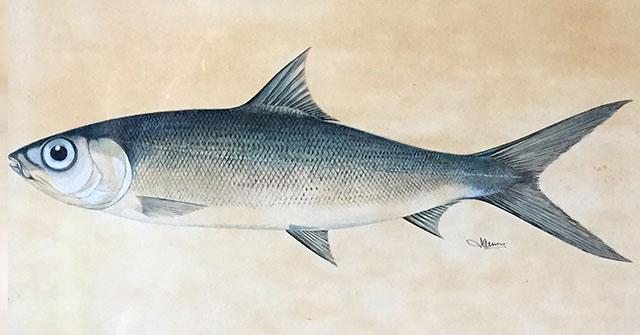Mulut: (0, 133, 48, 207)
Sirip Anal: (393, 197, 462, 247)
Sirip Dada: (122, 182, 214, 232)
Sirip Ekor: (480, 90, 640, 274)
Sirip Perut: (282, 219, 340, 268)
Sirip Punggung: (229, 36, 349, 138)
